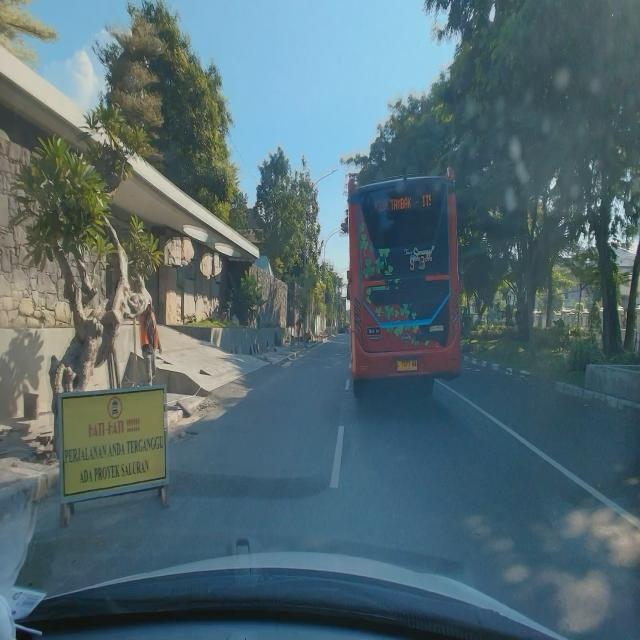bus: (345, 165, 464, 398)
license-plate: (396, 359, 418, 372)
